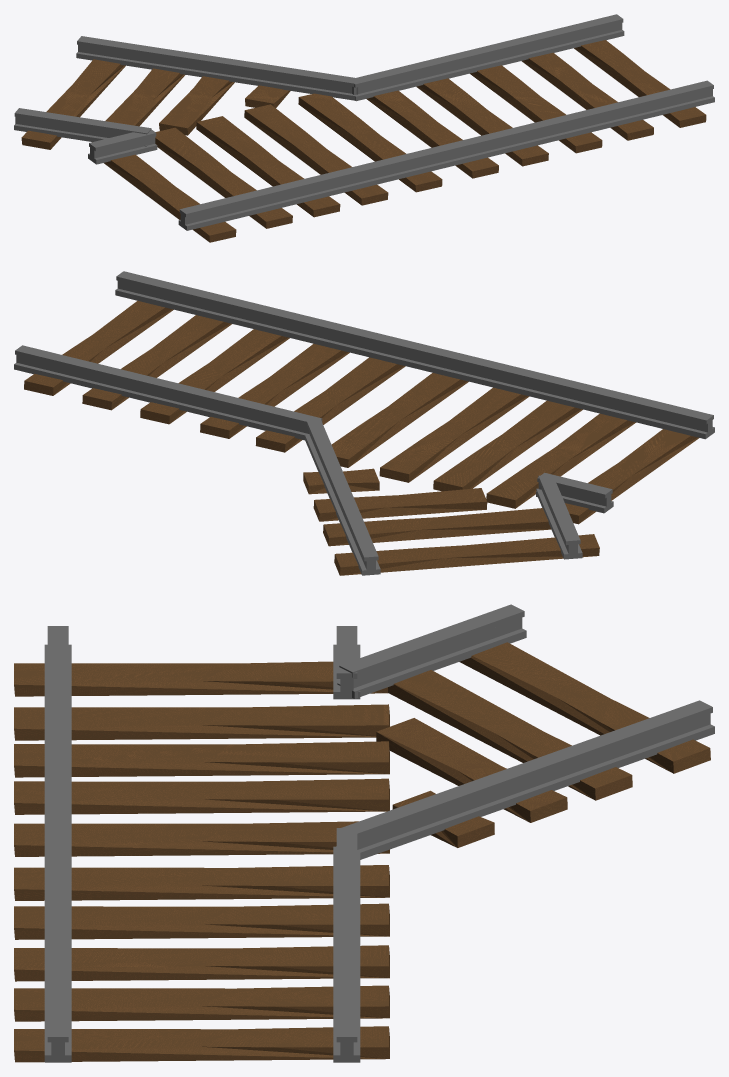
File: Rail_Track_Y_01.fbx
3 renders of one model, top to bottom at view 1: azimuth 30°, elevation 25°; view 2: azimuth 150°, elevation 25°; view 3: azimuth 270°, elevation 25°, orthographic. The views are drawn at different scales.
Parts seen in each view (by area): view 1: Model; view 2: Model; view 3: Model.
Part boxes in pixels (bbox=[...]): Model: bbox=[14, 14, 714, 242]; Model: bbox=[14, 271, 714, 575]; Model: bbox=[14, 604, 714, 1062].
Size of the model in its own units: 909 by 40.08 by 619.
